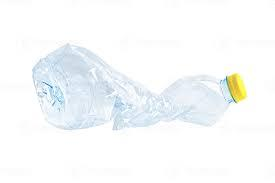plastic: (34, 44, 249, 127)
